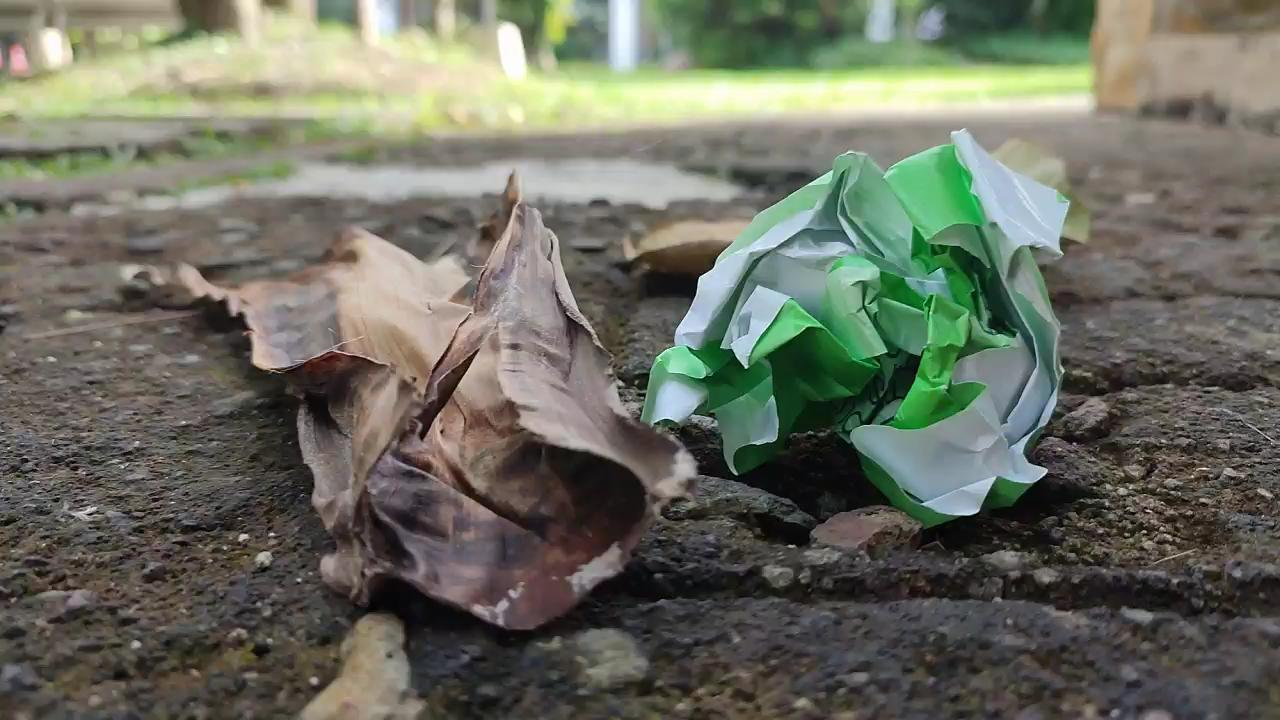Paper: (635, 125, 1075, 535)
